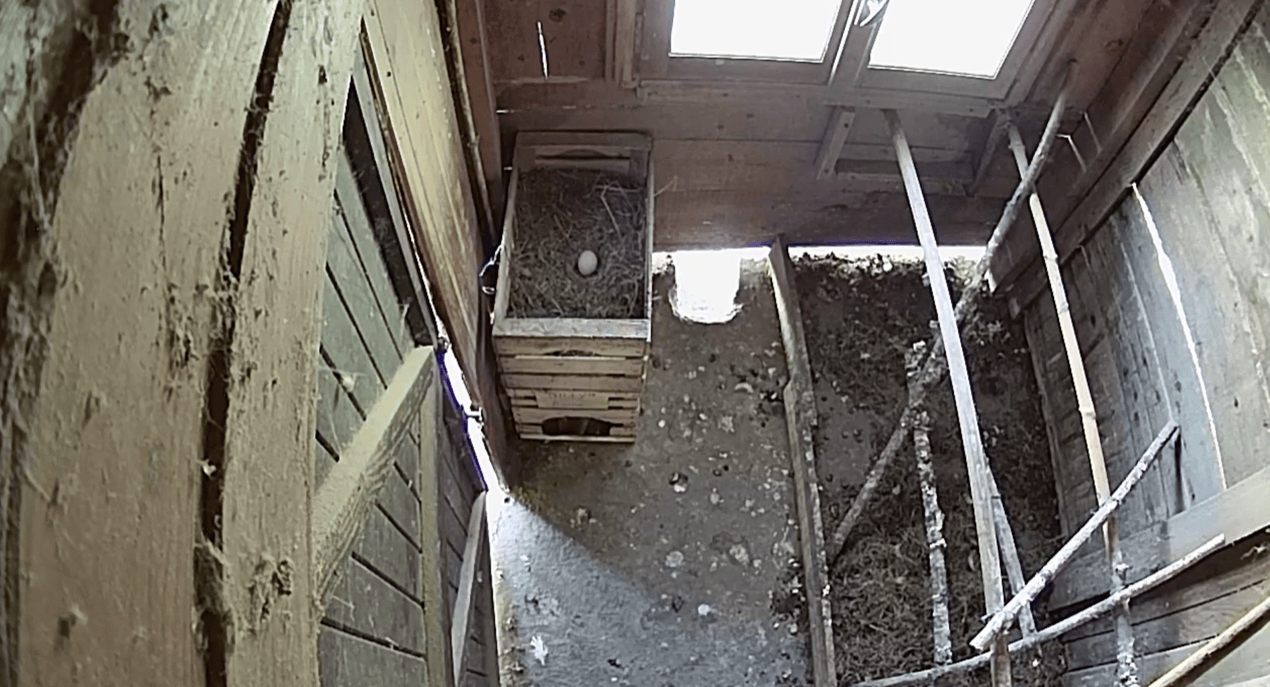egg: (571, 246, 605, 282)
